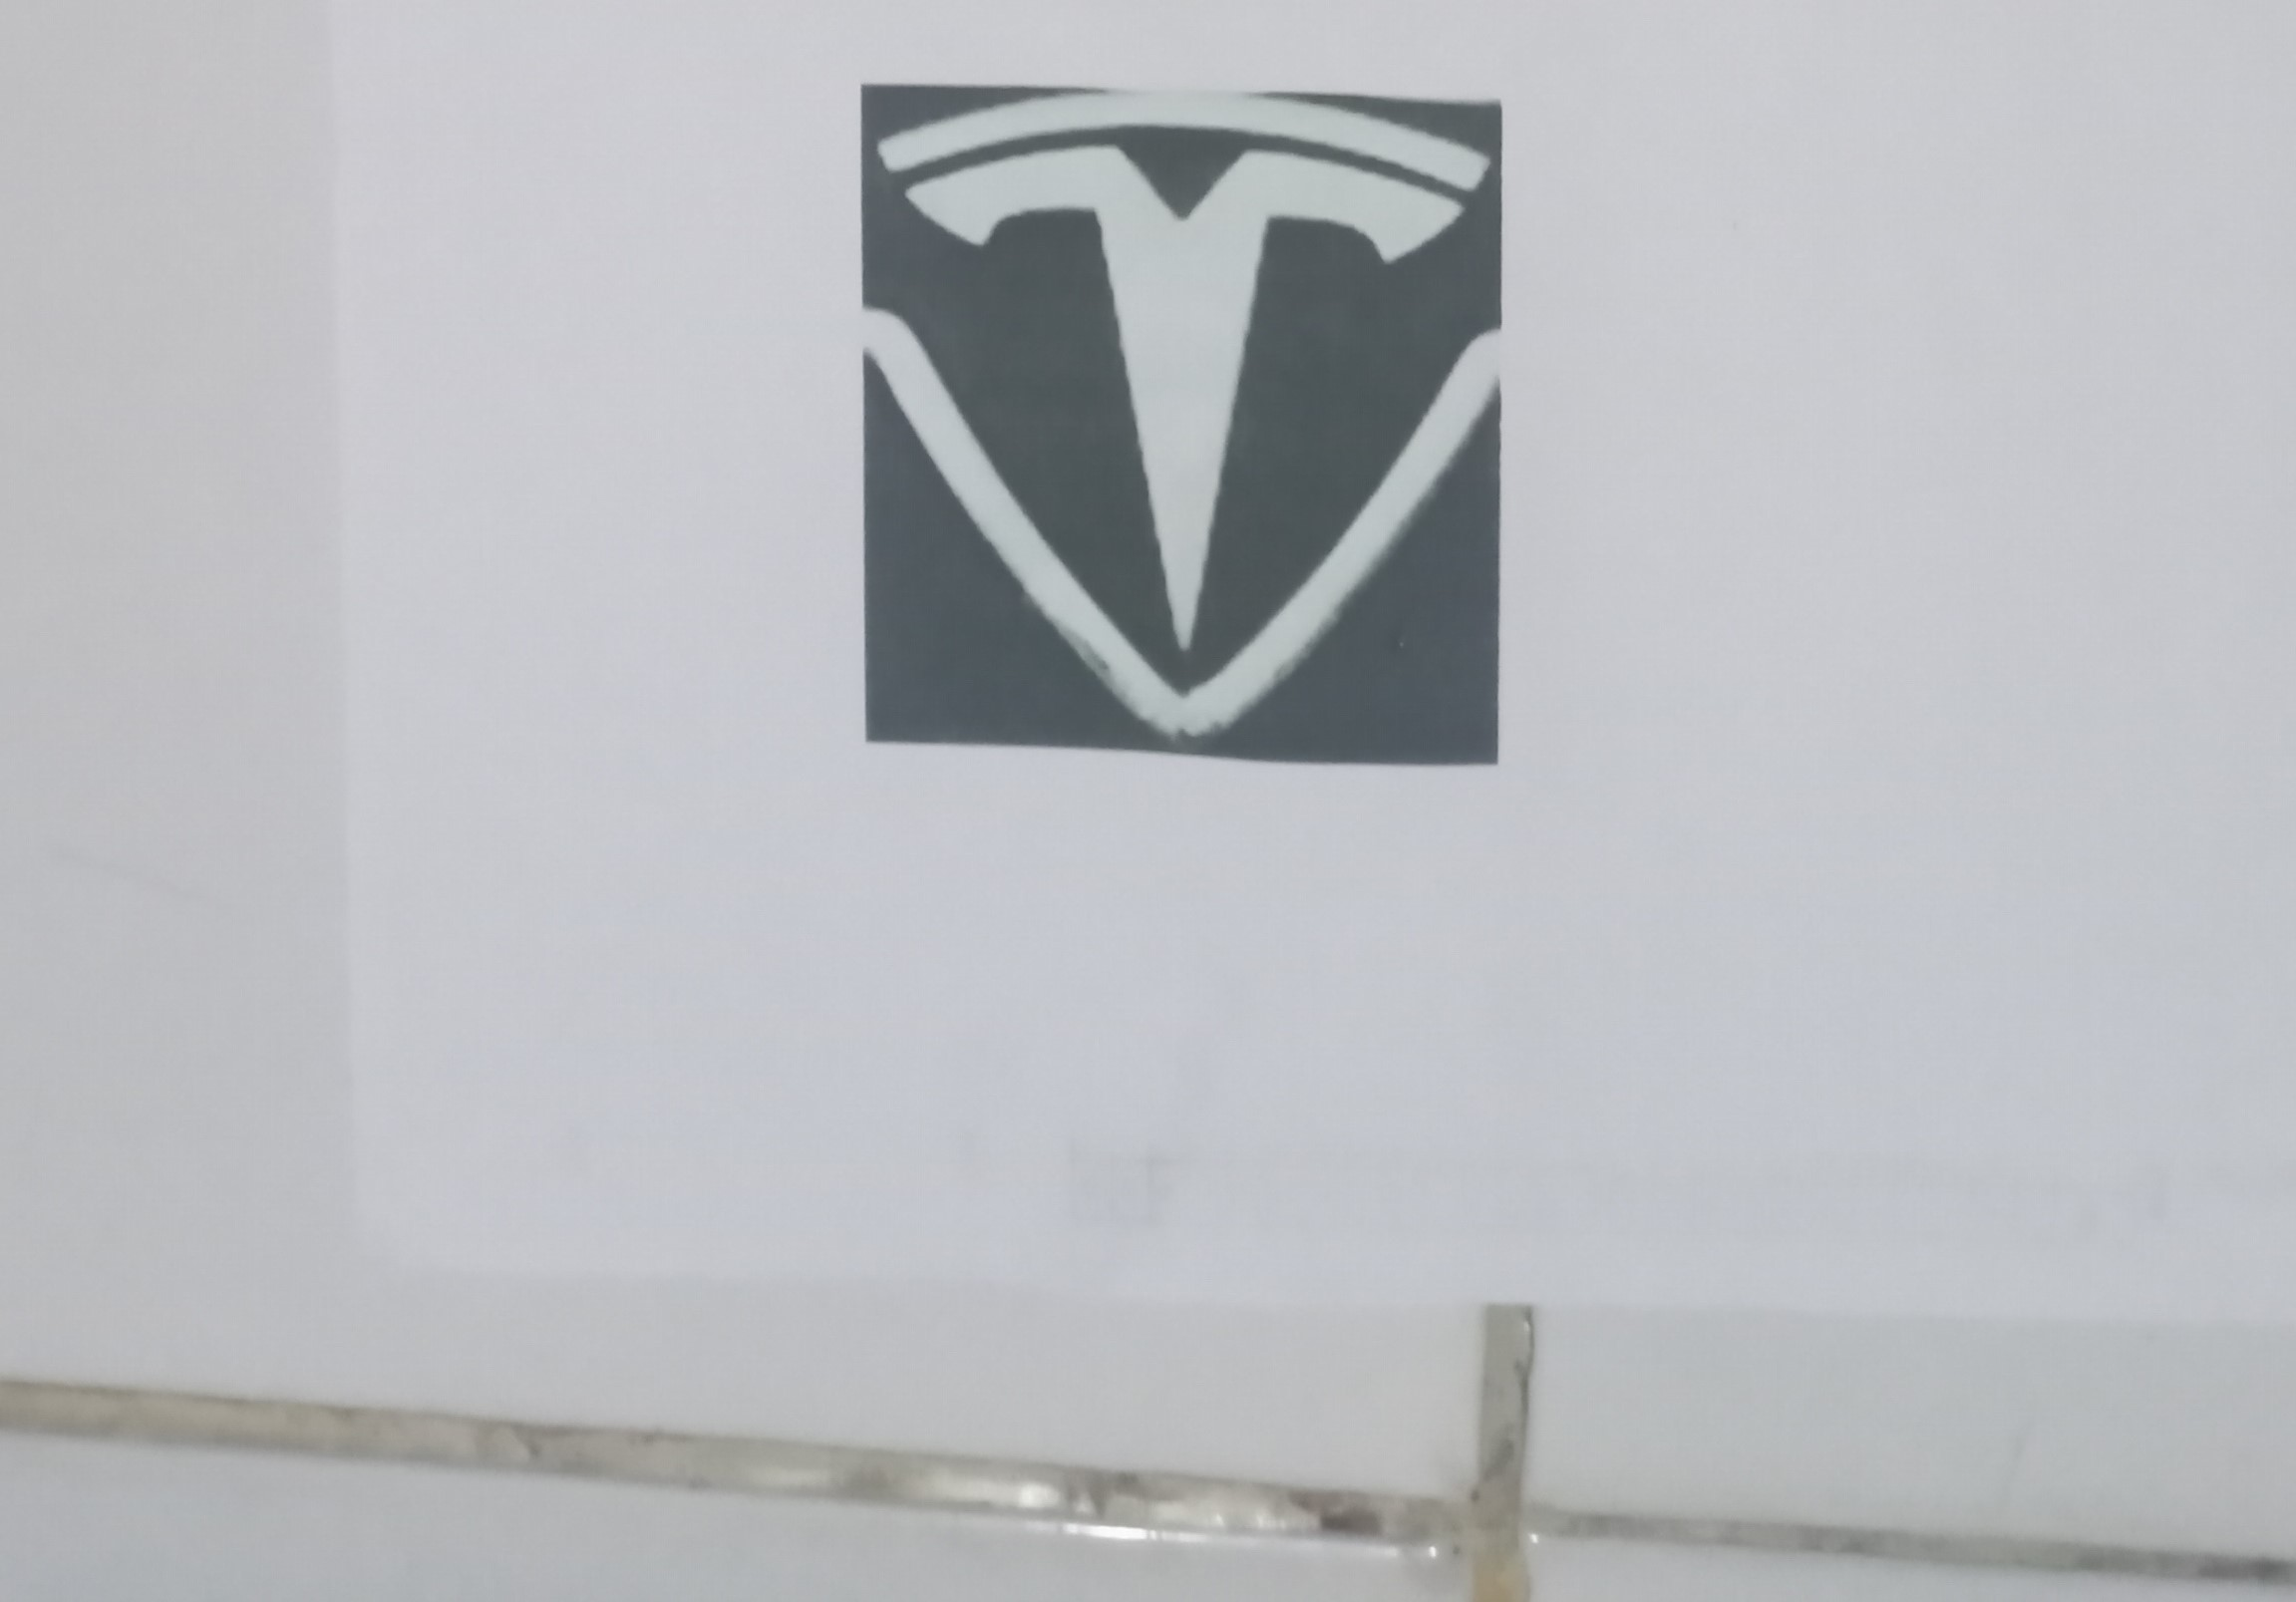Tesla: (862, 79, 1513, 759)
